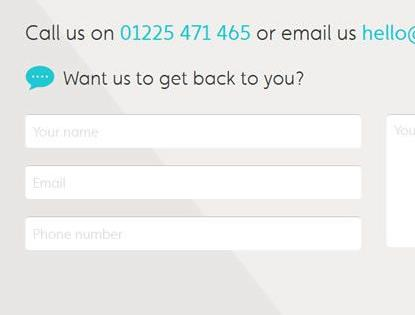field: (23, 165, 363, 201), (23, 114, 363, 149), (23, 216, 363, 251)
